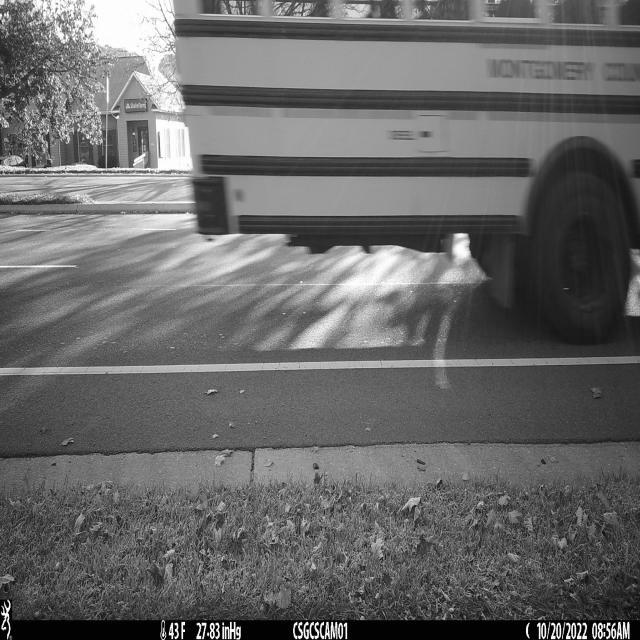Bus: (172, 0, 640, 346)
